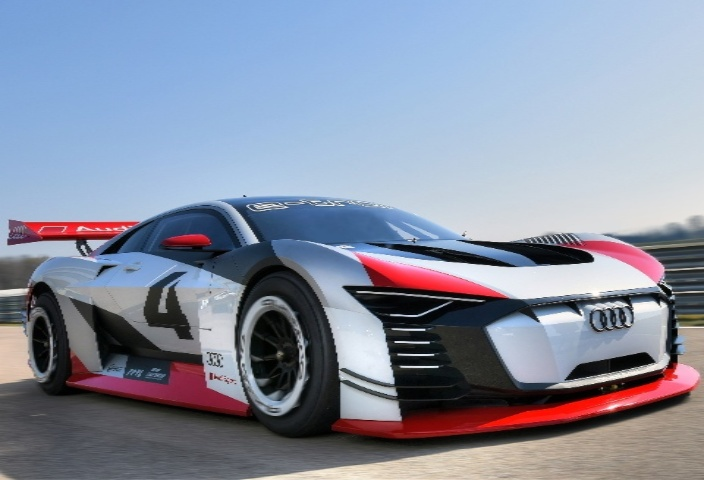car: (7, 163, 702, 449)
